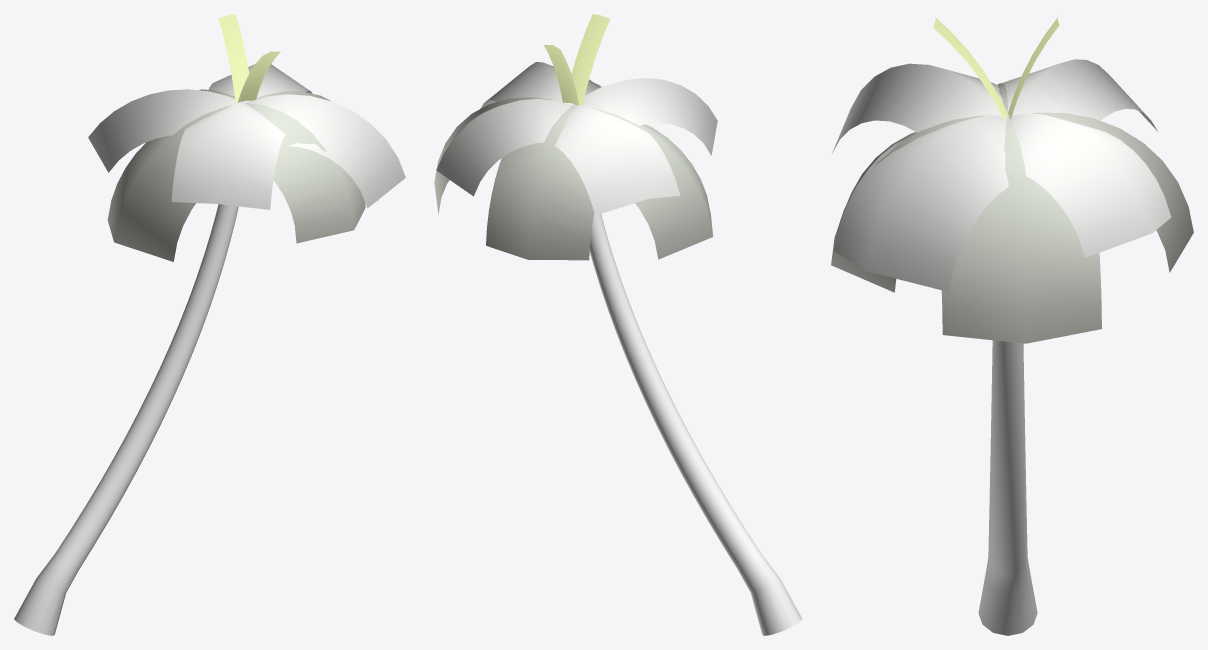
Rendered from plant_palm_c.glb.
3 views of the same model, side by side, from view 1: azimuth 30°, elevation 25°; view 2: azimuth 150°, elevation 25°; view 3: azimuth 270°, elevation 25° (orthographic). The views are drawn at different scales.
Visible parts, largest first — view 1: plant_palm_3; view 2: plant_palm_3; view 3: plant_palm_3.
Boxes of the visible parts, x1,y1,x2,y2 form: plant_palm_3: [14, 14, 405, 635]; plant_palm_3: [434, 14, 802, 635]; plant_palm_3: [831, 16, 1193, 635].
Size of the model in its own units: 7.94 by 11.69 by 5.15.
